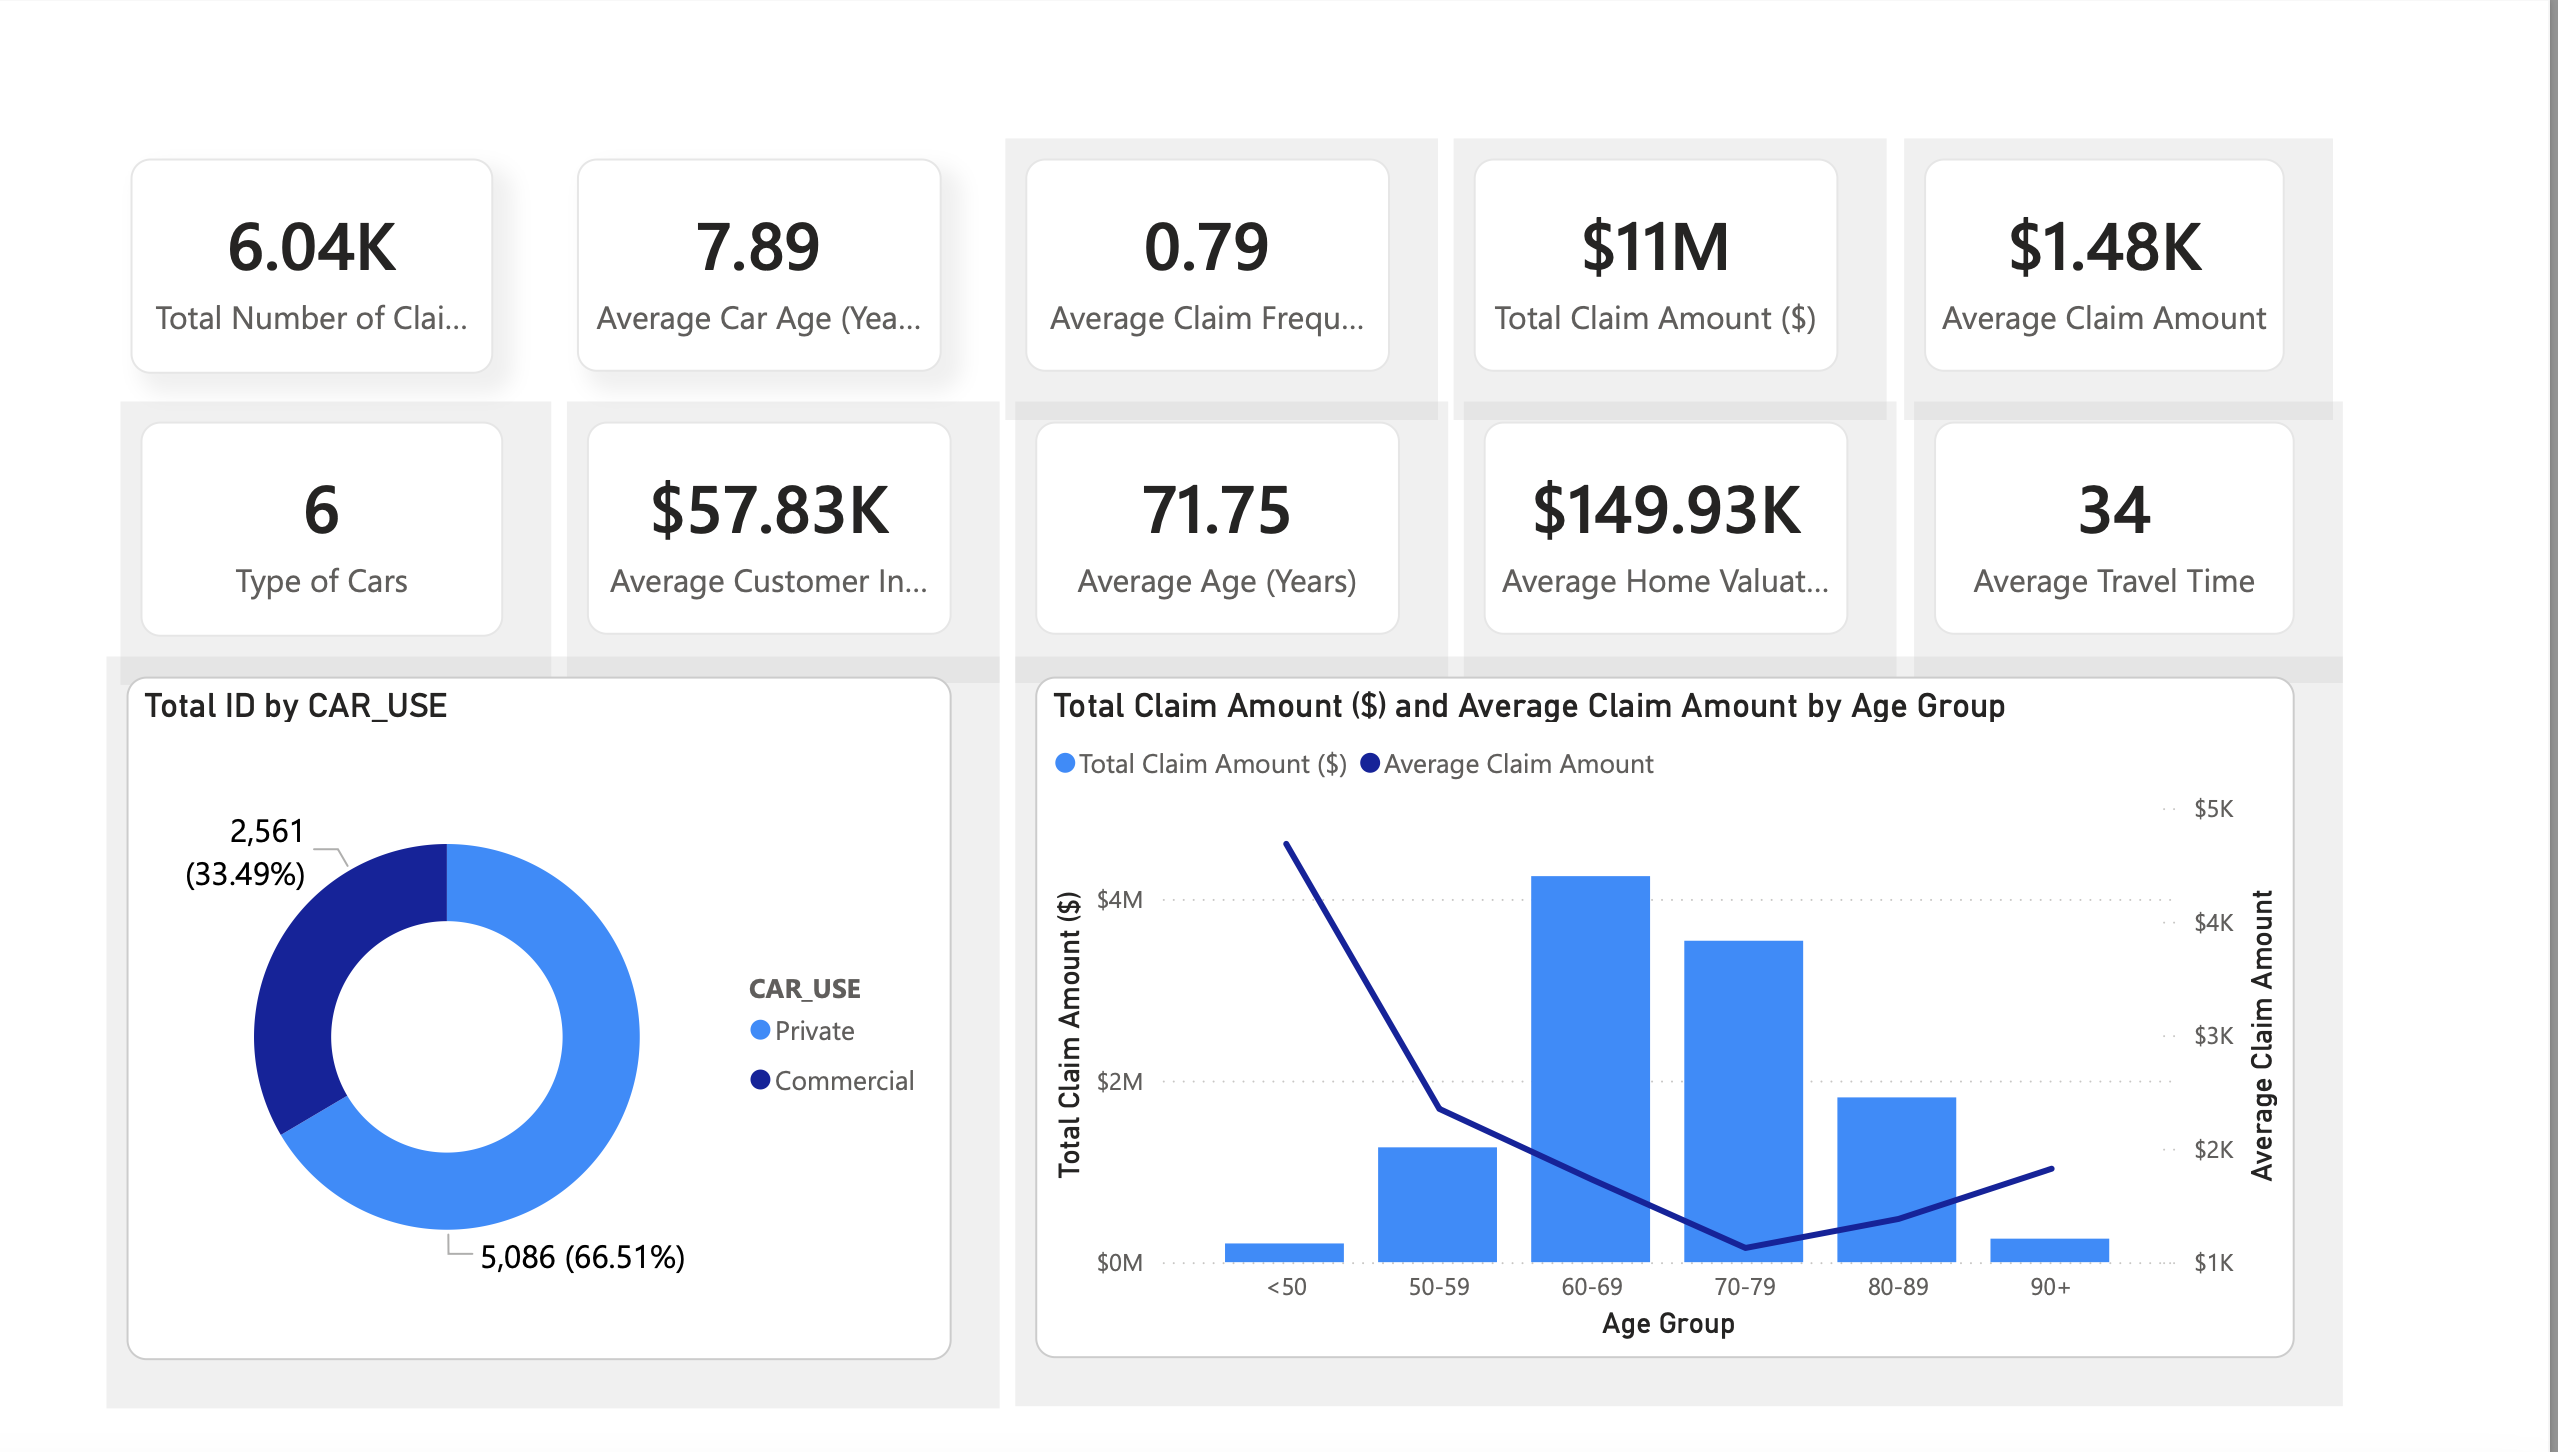

This screenshot's page, from the dashboard's own definition file:
{"tool":"powerbi","page":{"name":"Claim Insurance Overview","canvas":[1280,720],"ordinal":0},"visuals":[{"type":"card","fields":{"Values":["Claim Insurance Dataset.Type of Cars"]},"box":[70.6,206.9,182,108],"z":0,"group":"g1"},{"type":"card","fields":{"Values":["Claim Insurance Dataset.Total Number of Claims"]},"box":[66,75.4,182,108],"z":0},{"type":"card","fields":{"Values":["Claim Insurance Dataset.Average Customer Income"]},"box":[294.9,206.9,182.9,107.5],"z":1000,"group":"g1"},{"type":"card","fields":{"Values":["Claim Insurance Dataset.Average Car Years"]},"box":[290.3,75.4,182.9,107.5],"z":1000},{"type":"card","fields":{"Values":["Claim Insurance Dataset.Average Age (Years)"]},"box":[520,206.9,182.9,107.5],"z":2000,"group":"g1"},{"type":"card","fields":{"Values":["Claim Insurance Dataset.Average Claim Frequency"]},"box":[515.4,75.4,182.9,107.5],"z":2000},{"type":"card","fields":{"Values":["Claim Insurance Dataset.Average Home Valuation ($)"]},"box":[745.1,206.9,182.9,107.5],"z":3000,"group":"g1"},{"type":"card","fields":{"Values":["Claim Insurance Dataset.Total Claim Amount ($)"]},"box":[740.5,75.4,182.9,107.5],"z":3000},{"type":"card","fields":{"Values":["Claim Insurance Dataset.Average Travel Time"]},"box":[970.2,206.9,181.3,107.5],"z":4000,"group":"g1"},{"type":"card","fields":{"Values":["Claim Insurance Dataset.Average Claim Amount"]},"box":[965.6,75.4,181.3,107.5],"z":4000},{"type":"group","id":"g1","title":"Group 1","box":[70.6,206.9,1081.1,109.1],"z":5000},{"type":"donutChart","fields":{"Category":["Claim Insurance Dataset.CAR_USE"],"Y":["Claim Insurance Dataset.Total ID"]},"box":[64.1,334.7,414.5,342.6],"z":5001},{"type":"lineStackedColumnComboChart","fields":{"Y":["Claim Insurance Dataset.Total Claim Amount ($)"],"Y2":["Claim Insurance Dataset.Average Claim Amount"],"Category":["Claim Insurance Dataset.Age Group"]},"box":[519.7,335.2,632,341.7],"z":5002}]}

Visuals, with their boxes in screenshot pixels (x1, y1, x2, y2), scaled from the page's 1280x720 canvas onto the 2558x1452 screenshot:
card - Claim Insurance Dataset.Type of Cars: bbox=(141, 417, 505, 635)
card - Claim Insurance Dataset.Total Number of Claims: bbox=(132, 152, 496, 370)
card - Claim Insurance Dataset.Average Customer Income: bbox=(589, 417, 955, 634)
card - Claim Insurance Dataset.Average Car Years: bbox=(580, 152, 946, 369)
card - Claim Insurance Dataset.Average Age (Years): bbox=(1039, 417, 1405, 634)
card - Claim Insurance Dataset.Average Claim Frequency: bbox=(1030, 152, 1396, 369)
card - Claim Insurance Dataset.Average Home Valuation ($): bbox=(1489, 417, 1855, 634)
card - Claim Insurance Dataset.Total Claim Amount ($): bbox=(1480, 152, 1845, 369)
card - Claim Insurance Dataset.Average Travel Time: bbox=(1939, 417, 2301, 634)
card - Claim Insurance Dataset.Average Claim Amount: bbox=(1930, 152, 2292, 369)
"Group 1" group: bbox=(141, 417, 2302, 637)
donutChart - Claim Insurance Dataset.CAR_USE x Claim Insurance Dataset.Total ID: bbox=(128, 675, 956, 1366)
lineStackedColumnComboChart - Claim Insurance Dataset.Total Claim Amount ($) x Claim Insurance Dataset.Average Claim Amount: bbox=(1039, 676, 2302, 1365)
